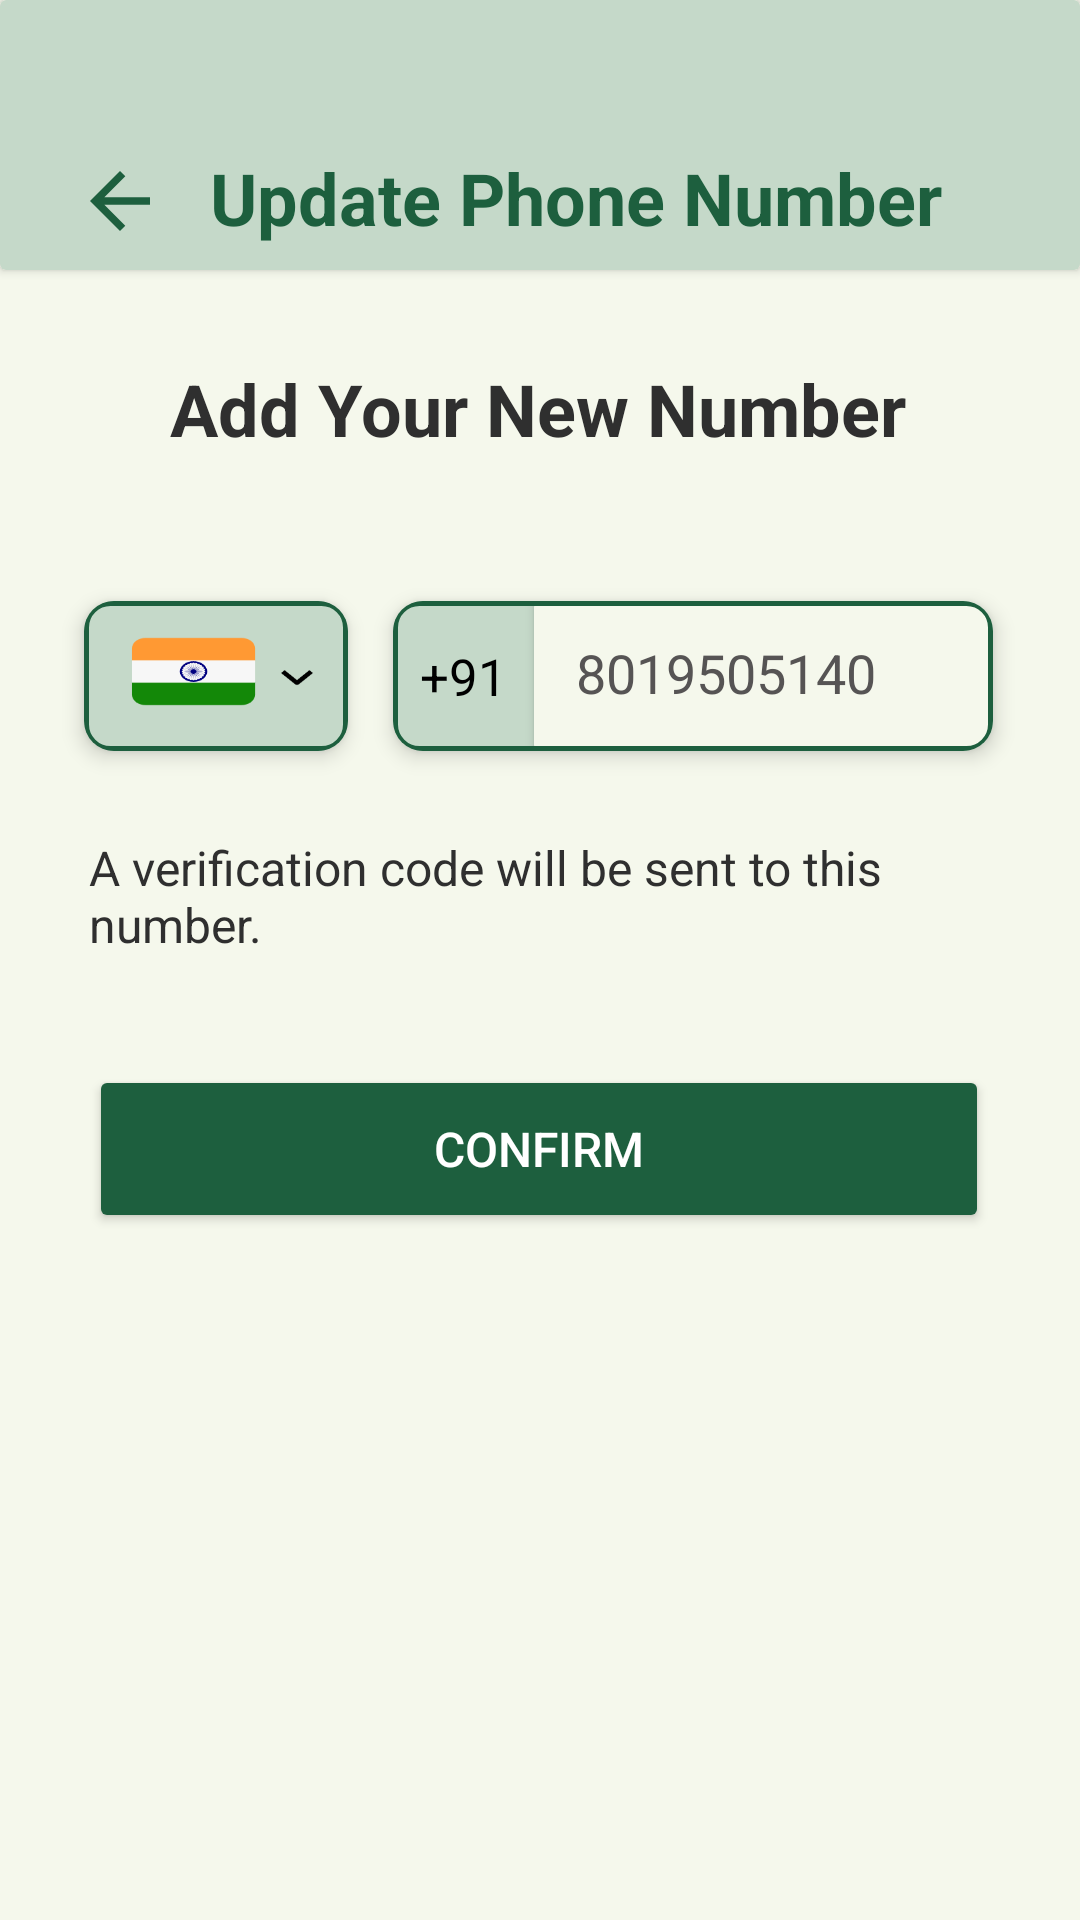

Icon click points for this 1080w x 1920h phone screenshot, format point (x, y):
arrow back: point (120, 201)
countrycode: point (222, 672)
